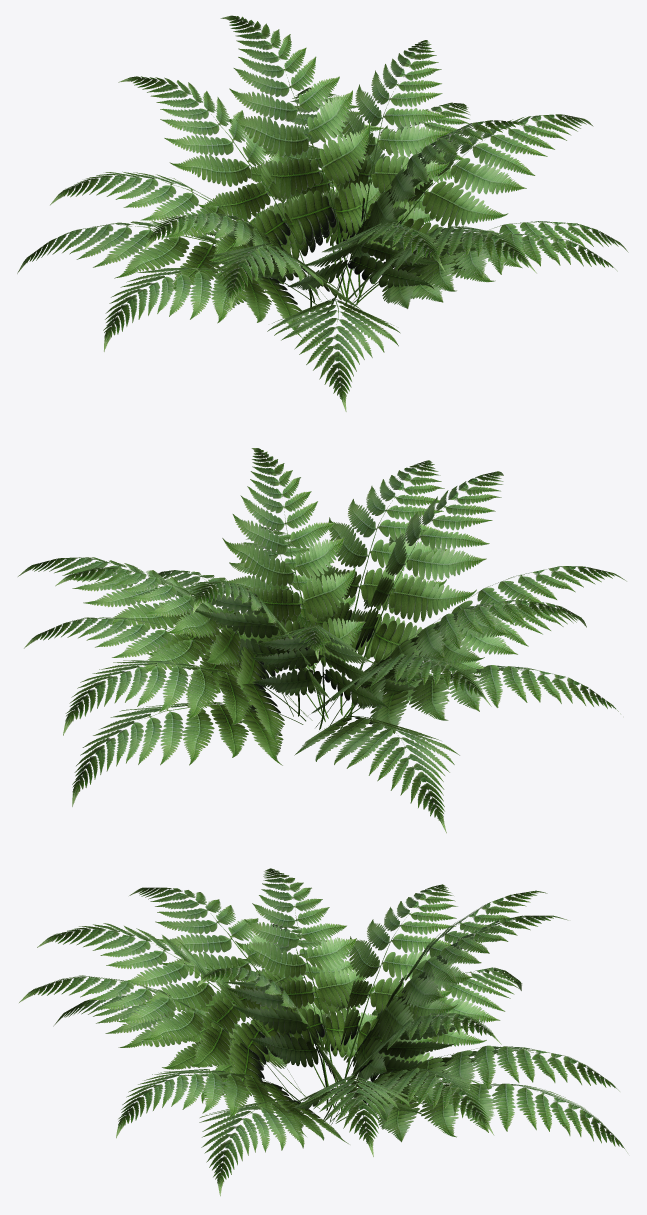
File: kapradi_2.glb
The picture shows the model from 3 angles, top to bottom: view 1: azimuth 30°, elevation 25°; view 2: azimuth 150°, elevation 25°; view 3: azimuth 270°, elevation 25°; orthographic projection.
Visible parts, largest first — view 1: SM_MZRa_Fern_B0532_MI_MZRa_Fern_B053_0; view 2: SM_MZRa_Fern_B0532_MI_MZRa_Fern_B053_0; view 3: SM_MZRa_Fern_B0532_MI_MZRa_Fern_B053_0.
Part boxes in pixels (x1,y1,x2,y2): SM_MZRa_Fern_B0532_MI_MZRa_Fern_B053_0: (17, 15, 628, 411); SM_MZRa_Fern_B0532_MI_MZRa_Fern_B053_0: (18, 448, 626, 833); SM_MZRa_Fern_B0532_MI_MZRa_Fern_B053_0: (19, 868, 627, 1196).
Bounding box in the file's own units: 1.92 × 0.6941 × 1.86.
Materials: 1 (1 with a texture image).
